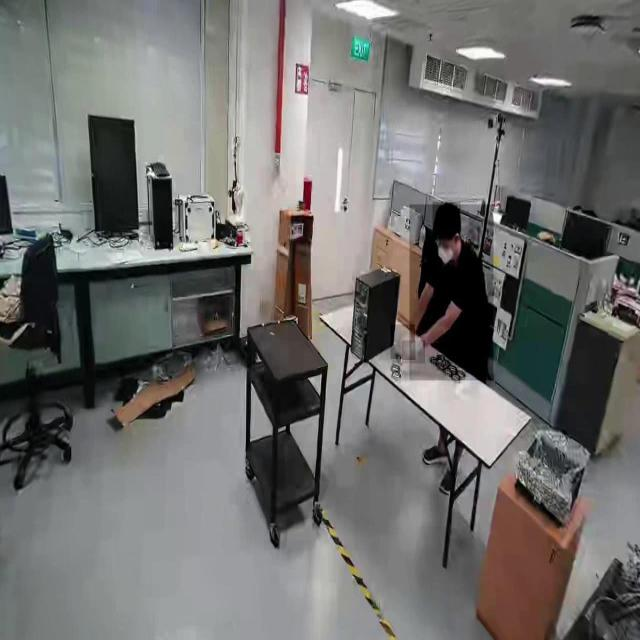face_mask: (437, 229, 459, 271)
hand_glove: (390, 324, 416, 360), (402, 340, 426, 364)
head_nohelmet: (433, 202, 461, 232)
person: (410, 205, 494, 382)
shoes: (421, 441, 452, 468)
